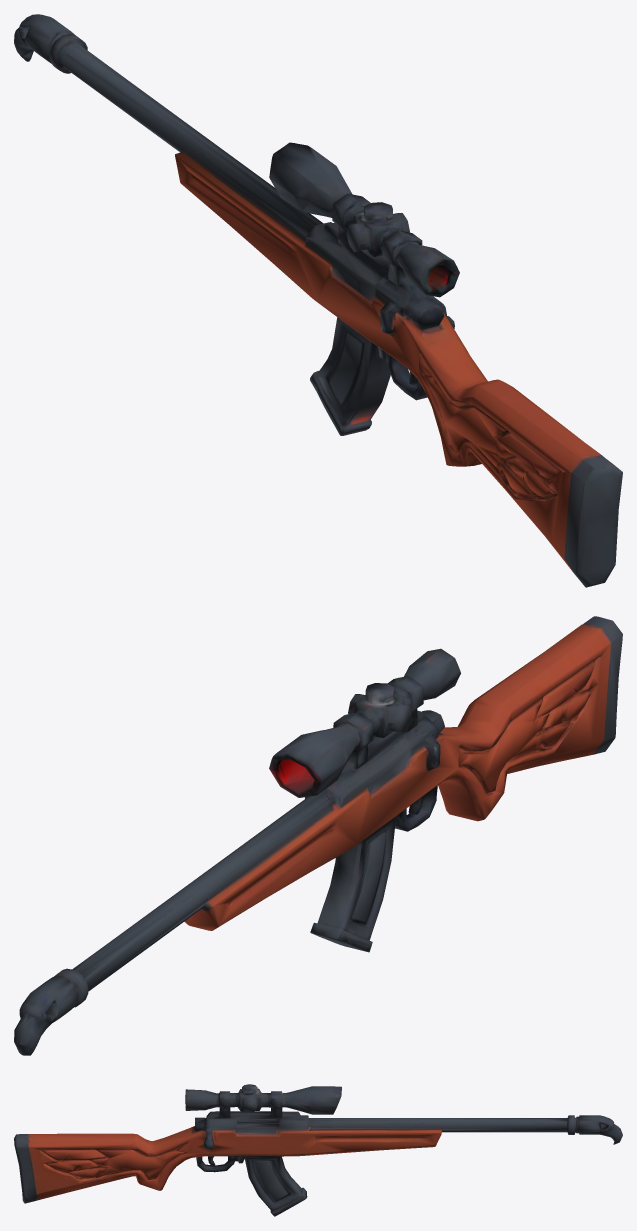
The model's file is r_hawk.glb.
The picture shows the model from 3 angles, top to bottom: view 1: azimuth 30°, elevation 25°; view 2: azimuth 150°, elevation 25°; view 3: azimuth 270°, elevation 25°; orthographic projection. The views are drawn at different scales.
Visible parts, largest first — view 1: node_0; view 2: node_0; view 3: node_0.
Boxes of the visible parts, x1,y1,x2,y2 form: node_0: (14, 14, 622, 587); node_0: (14, 616, 622, 1055); node_0: (14, 1084, 622, 1216).
Size of the model in its own units: 0.0856 by 0.3181 by 1.39.
Materials: 1 (1 with a texture image).
